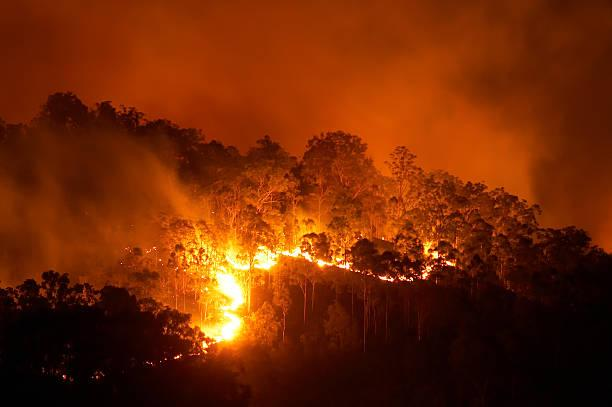Fire: (212, 269, 247, 339), (254, 249, 279, 269)
